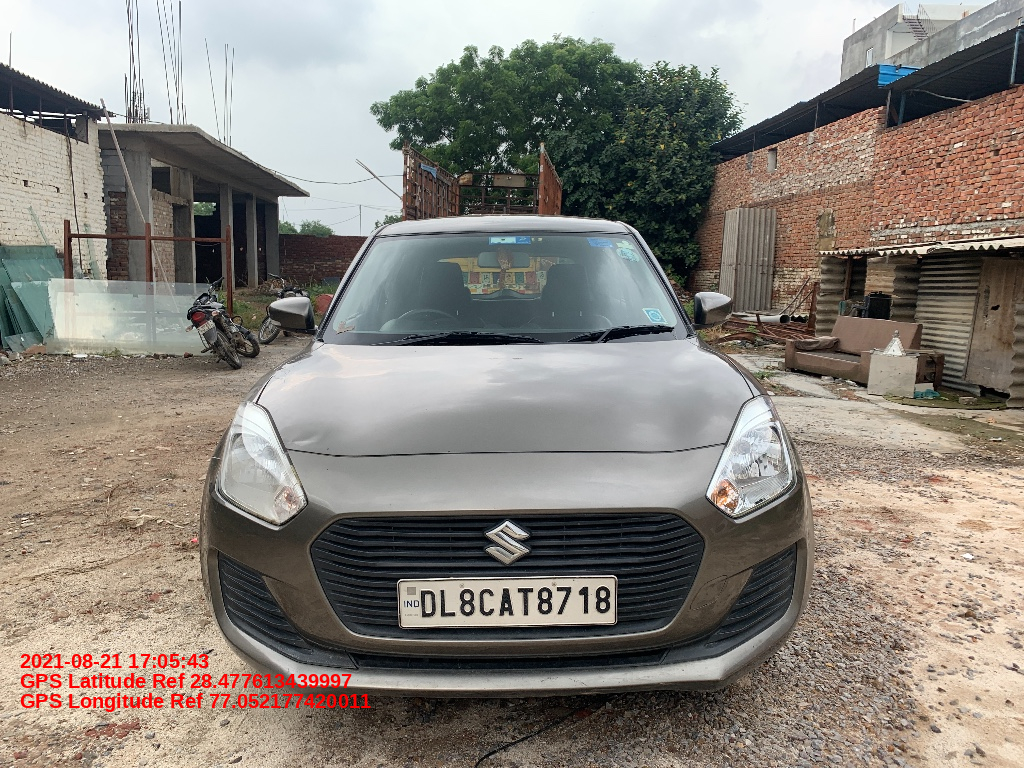Pressed: (288, 423, 332, 451)
Scratched: (602, 661, 716, 689), (532, 674, 595, 692)
